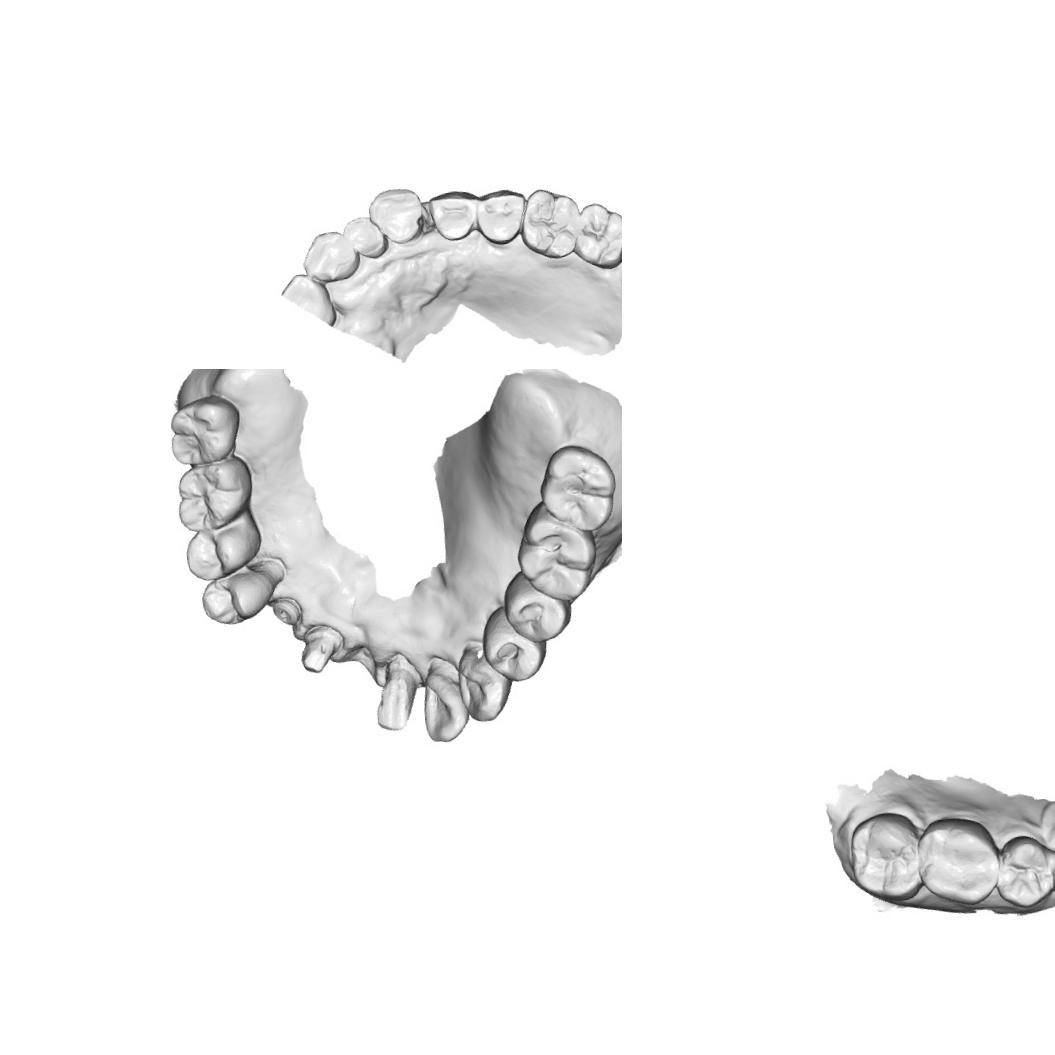canine: (455, 648, 509, 725), (365, 184, 428, 249)
crown: (368, 656, 422, 734), (296, 622, 347, 677)
implant_minus: (269, 595, 303, 628)
incisor: (415, 655, 469, 745), (299, 227, 363, 286), (341, 213, 390, 261)
molar: (511, 498, 601, 608), (913, 813, 1004, 912), (840, 808, 928, 906), (534, 438, 621, 536), (164, 390, 246, 470), (172, 458, 257, 535), (515, 184, 585, 263), (570, 198, 622, 272)
premolar: (500, 566, 576, 647), (477, 602, 550, 686), (180, 519, 266, 584), (988, 831, 1055, 913), (198, 566, 273, 631), (474, 186, 530, 246), (426, 186, 480, 244)
